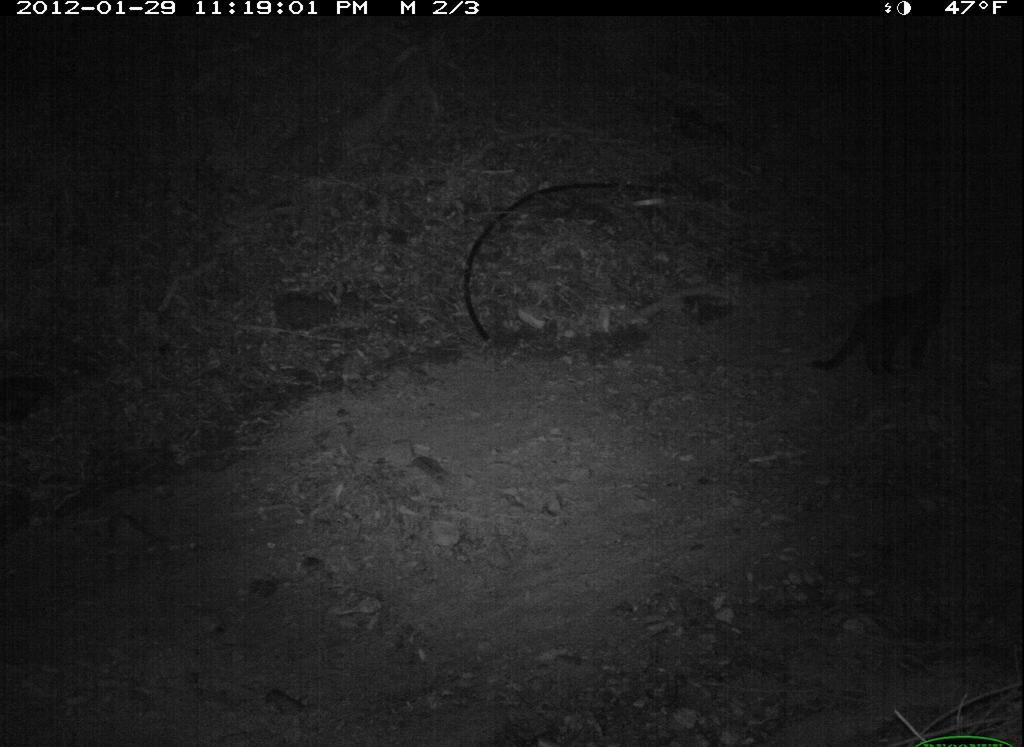cat: (801, 248, 981, 401)
